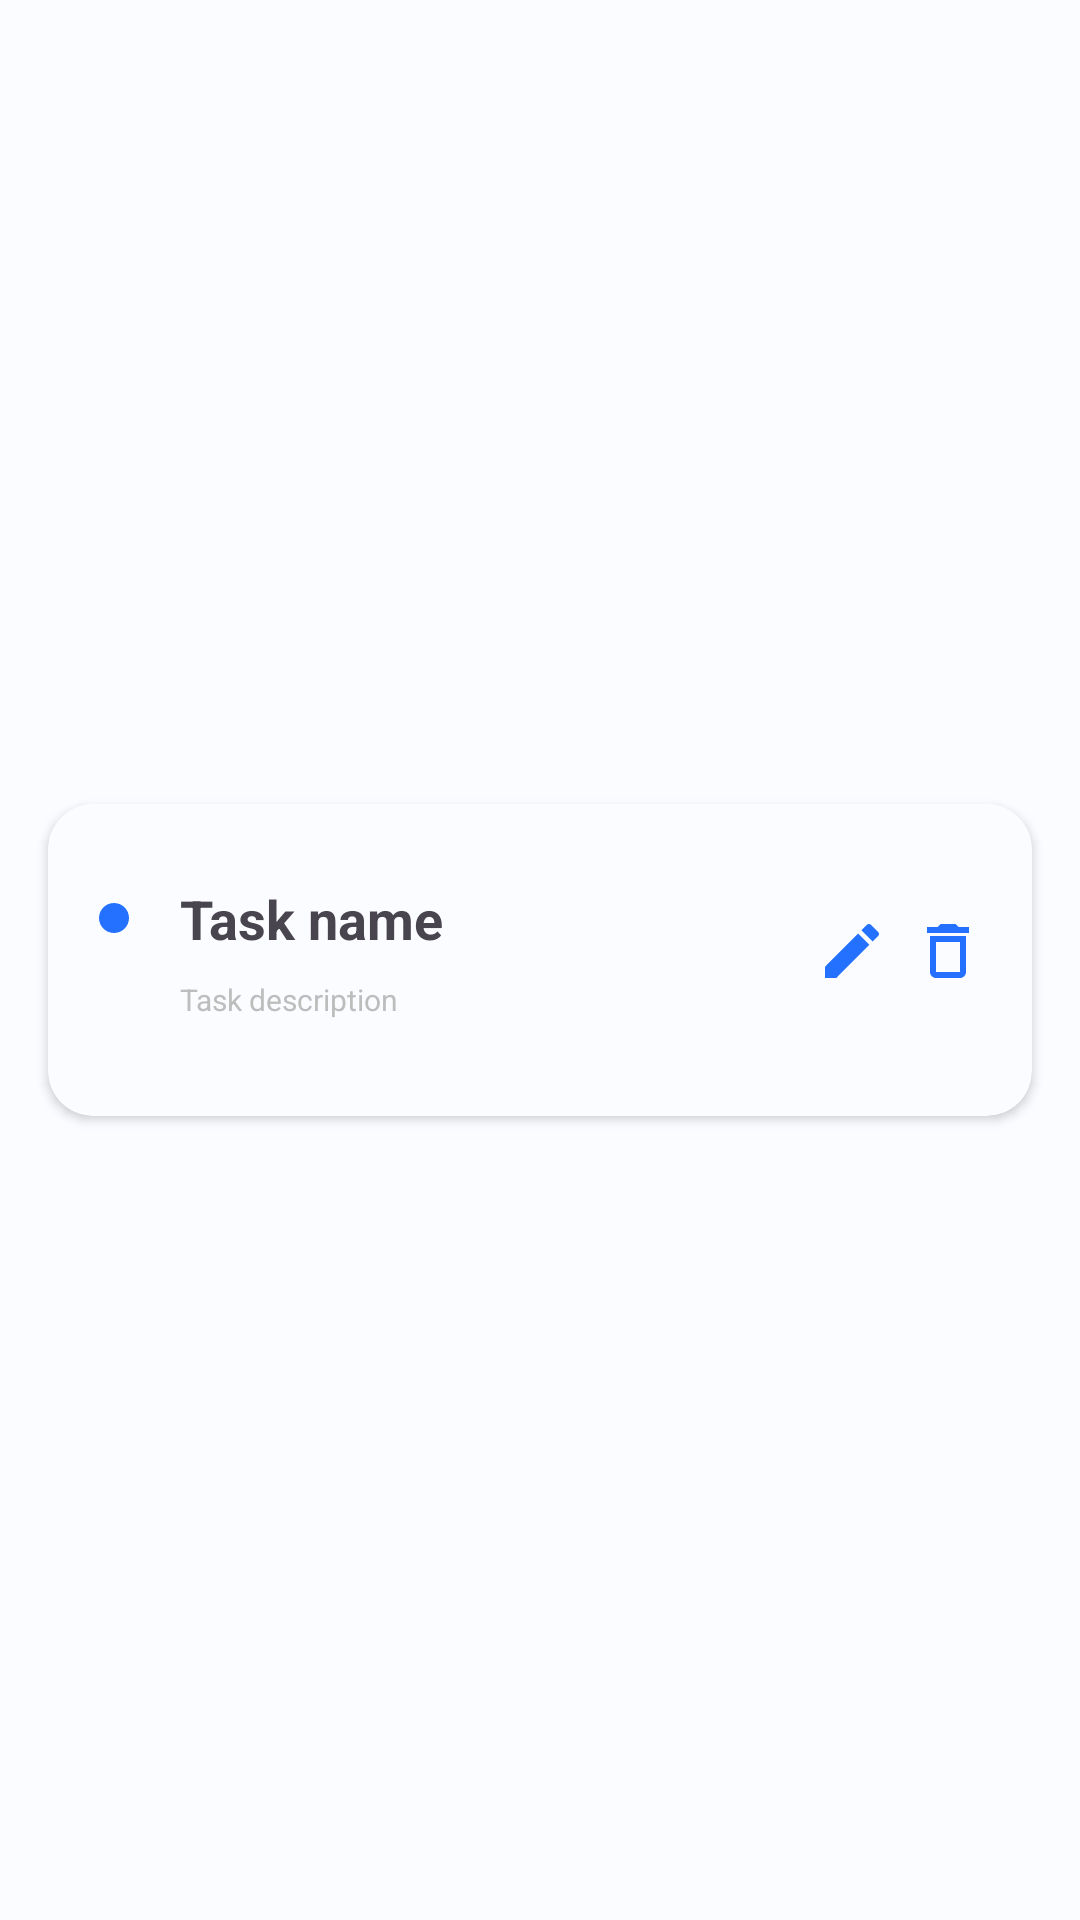

Named icons in this screenshot (1080 x 1920) and their bounding boxes, bbox=[x1, y1, x2, y2]:
delete: bbox=[927, 924, 969, 978]
edit: bbox=[825, 924, 879, 978]
